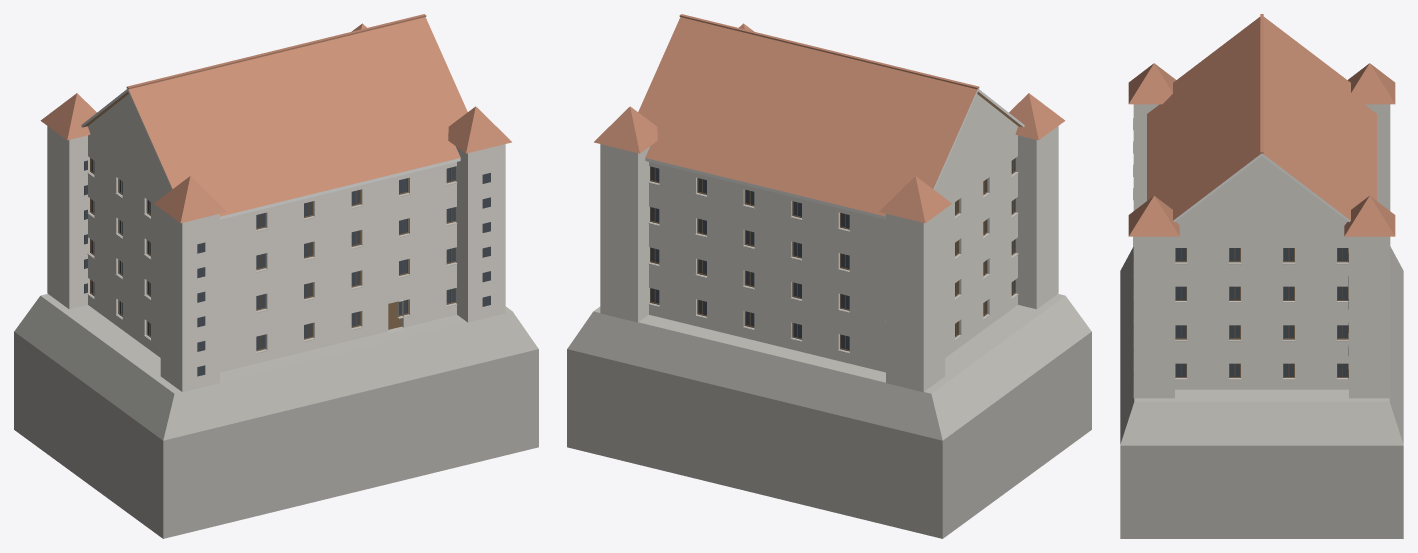
The model's file is nordic_castle_4_l.glb.
3 views of the same model, side by side, from view 1: azimuth 30°, elevation 25°; view 2: azimuth 150°, elevation 25°; view 3: azimuth 270°, elevation 25° (orthographic). The views are drawn at different scales.
Parts seen in each view (by area): view 1: nordic_castle_4_l; view 2: nordic_castle_4_l; view 3: nordic_castle_4_l.
Part boxes in pixels (left/top/right/bottom): nordic_castle_4_l: left=14, top=14, right=538, bottom=538; nordic_castle_4_l: left=567, top=14, right=1091, bottom=538; nordic_castle_4_l: left=1120, top=14, right=1403, bottom=538.
Size of the model in its own units: 32 by 31.55 by 22.
